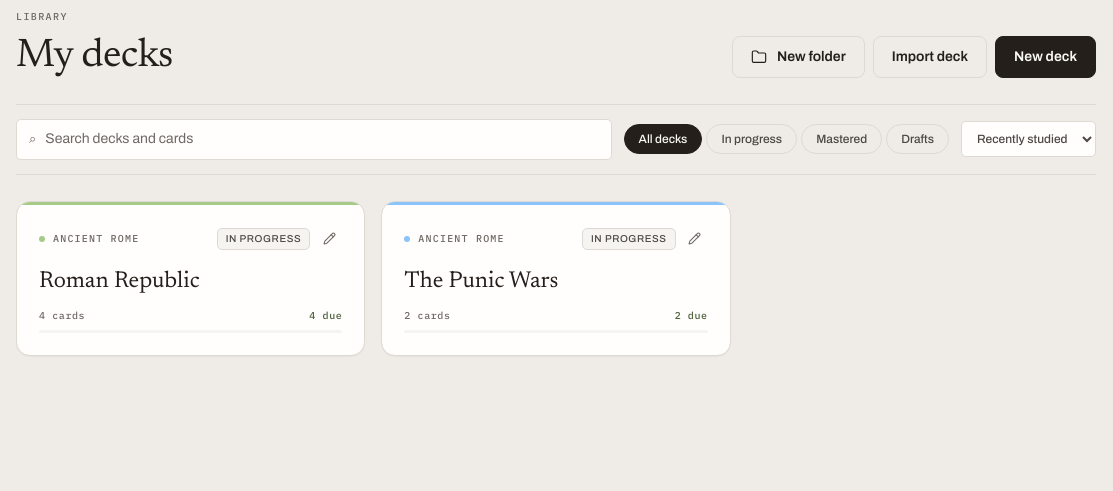
Test: when nothing matches › quotes the search back, and offers to clear it
Type "photosynthesis" into the field labelled "Search decks and cards". click: (322, 140)
box: [45,130,599,150]
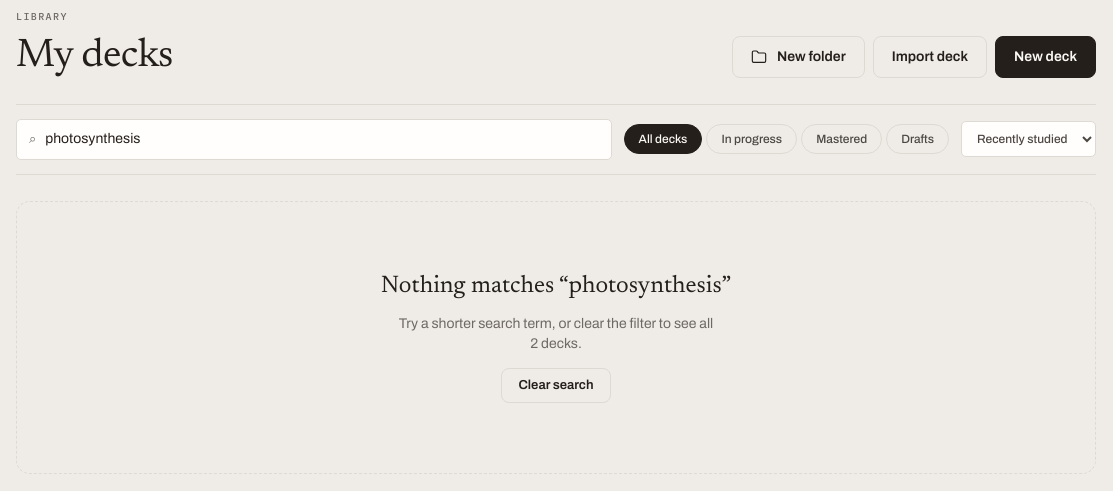
Expected: the text "Nothing matches “photosynthesis”" is shown, [381,272,731,300]
Expected: the text "Try a shorter search term" is shown, [399,316,713,351]
Expected: the button "Clear search" is shown, [502,368,611,403]
